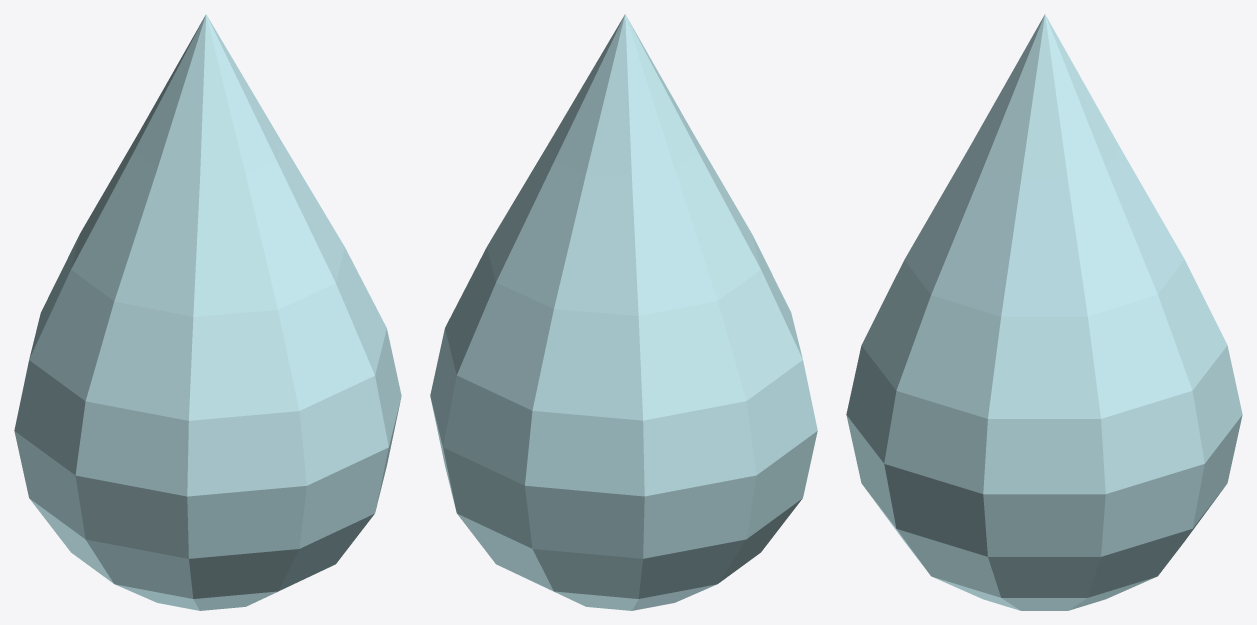
The model's file is model-crystal.gltf.
3 views of the same model, side by side, from view 1: azimuth 30°, elevation 25°; view 2: azimuth 150°, elevation 25°; view 3: azimuth 270°, elevation 25° (orthographic).
Parts seen in each view (by area): view 1: Sphere; view 2: Sphere; view 3: Sphere.
Boxes of the visible parts, x1,y1,x2,y2 form: Sphere: [14, 14, 401, 610]; Sphere: [430, 14, 817, 610]; Sphere: [846, 14, 1242, 610].
Size of the model in its own units: 1.9 by 3.23 by 2.
